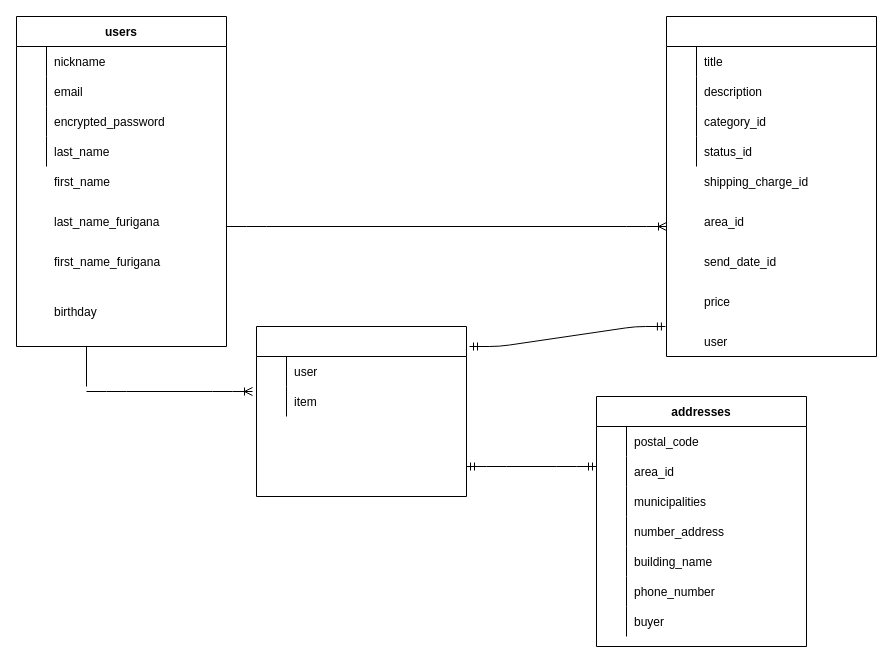
Image size: 893x663. Some labels were removed from this diagram. Each missing label, with the box of its shape:
buyers: (256, 326, 466, 496)
items: (666, 16, 876, 356)
